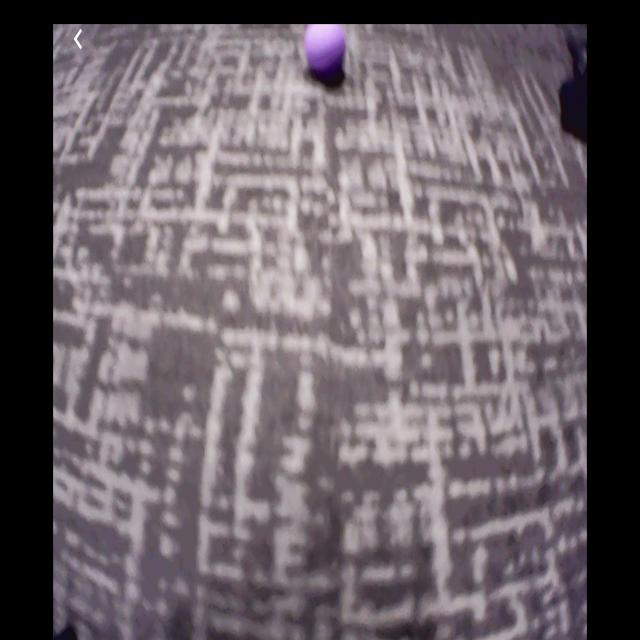ball: (304, 26, 349, 84)
